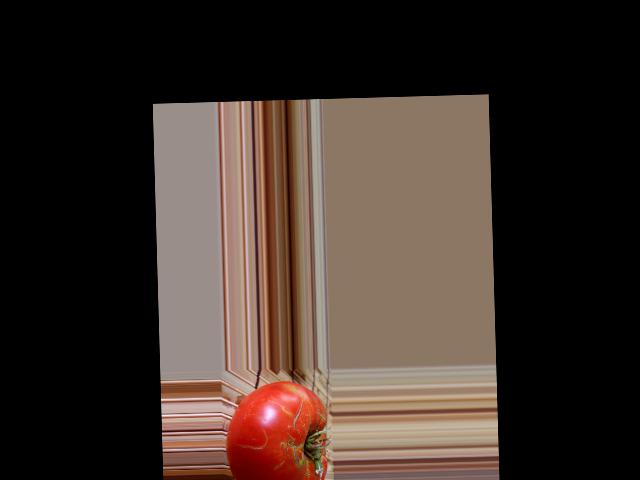tomato: (225, 380, 329, 480)
